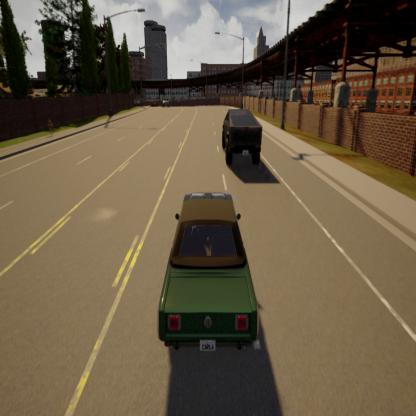Cars: (150, 179, 267, 359), (218, 103, 268, 167)
Pedestrian: (44, 112, 57, 140)
